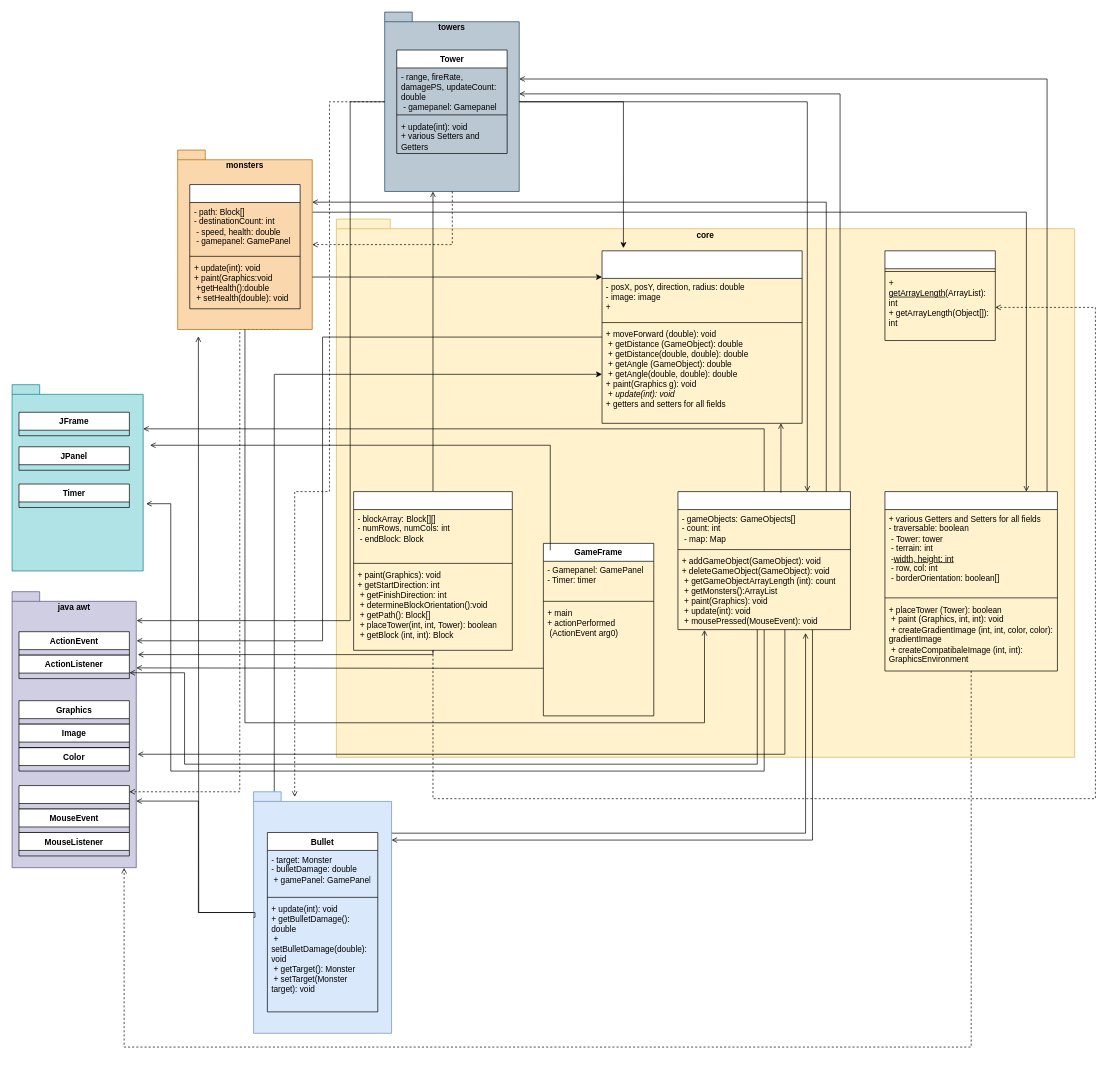
This 1113x1065 diagram has some shape labels left out. The box of each missing label's shape, as (x1, y1, x2, y2) in pixels:
Block: (884, 491, 1057, 671)
bullets: (253, 791, 392, 1033)
GameObject {abstract}: (601, 250, 802, 423)
GamePanel: (677, 491, 850, 630)
Map: (353, 491, 512, 650)
Monster: (189, 184, 300, 309)
swing: (11, 384, 143, 571)
Toolkit: (18, 785, 129, 809)
UtilityMethods: (884, 250, 995, 341)
